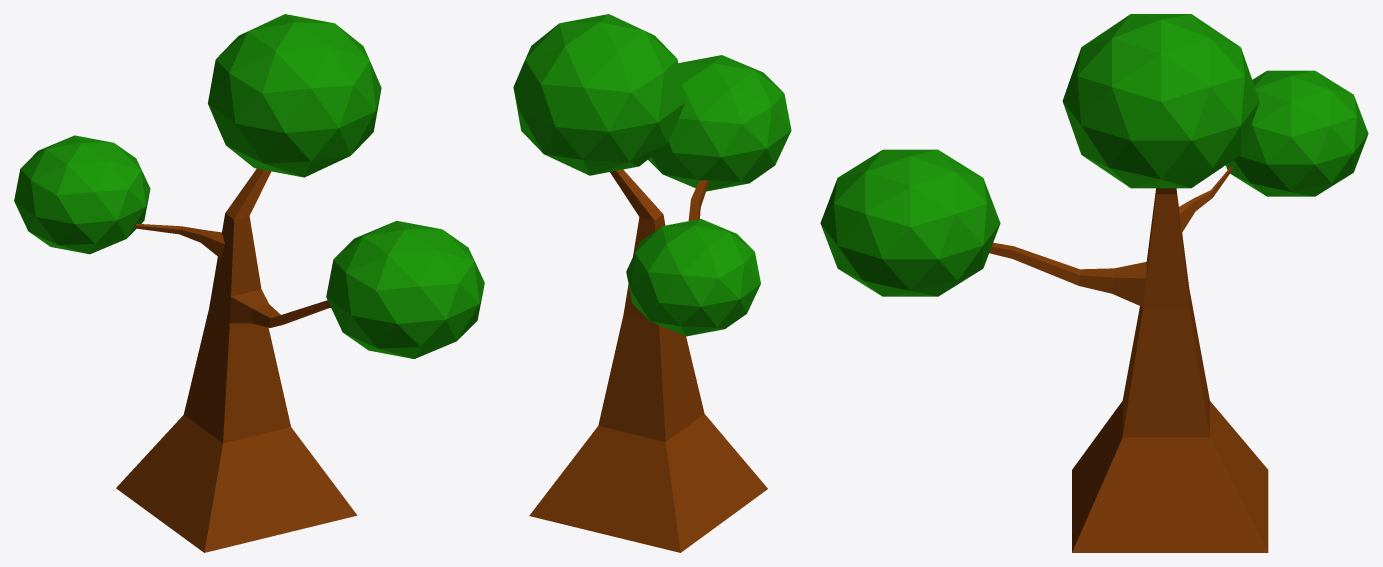
Rendered from Tree.glb.
3 views of the same model, side by side, from view 1: azimuth 30°, elevation 25°; view 2: azimuth 150°, elevation 25°; view 3: azimuth 270°, elevation 25° (orthographic). The views are drawn at different scales.
Parts seen in each view (by area): view 1: Tree; view 2: Tree; view 3: Tree.
Boxes of the visible parts, left/top/right/bottom form: Tree: left=14, top=14, right=484, bottom=552; Tree: left=513, top=14, right=791, bottom=552; Tree: left=820, top=14, right=1368, bottom=552.
Size of the model in its own units: 3.71 by 5.85 by 5.58.
1 material, 1 textured.
